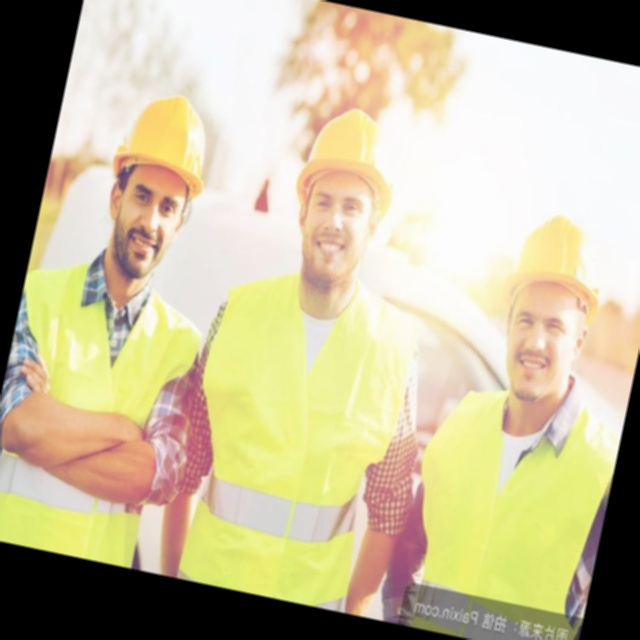Con_Casco: (483, 209, 613, 408), (91, 85, 219, 279), (279, 97, 404, 284)
Con_Chaleco: (153, 263, 425, 616), (0, 259, 208, 572)
